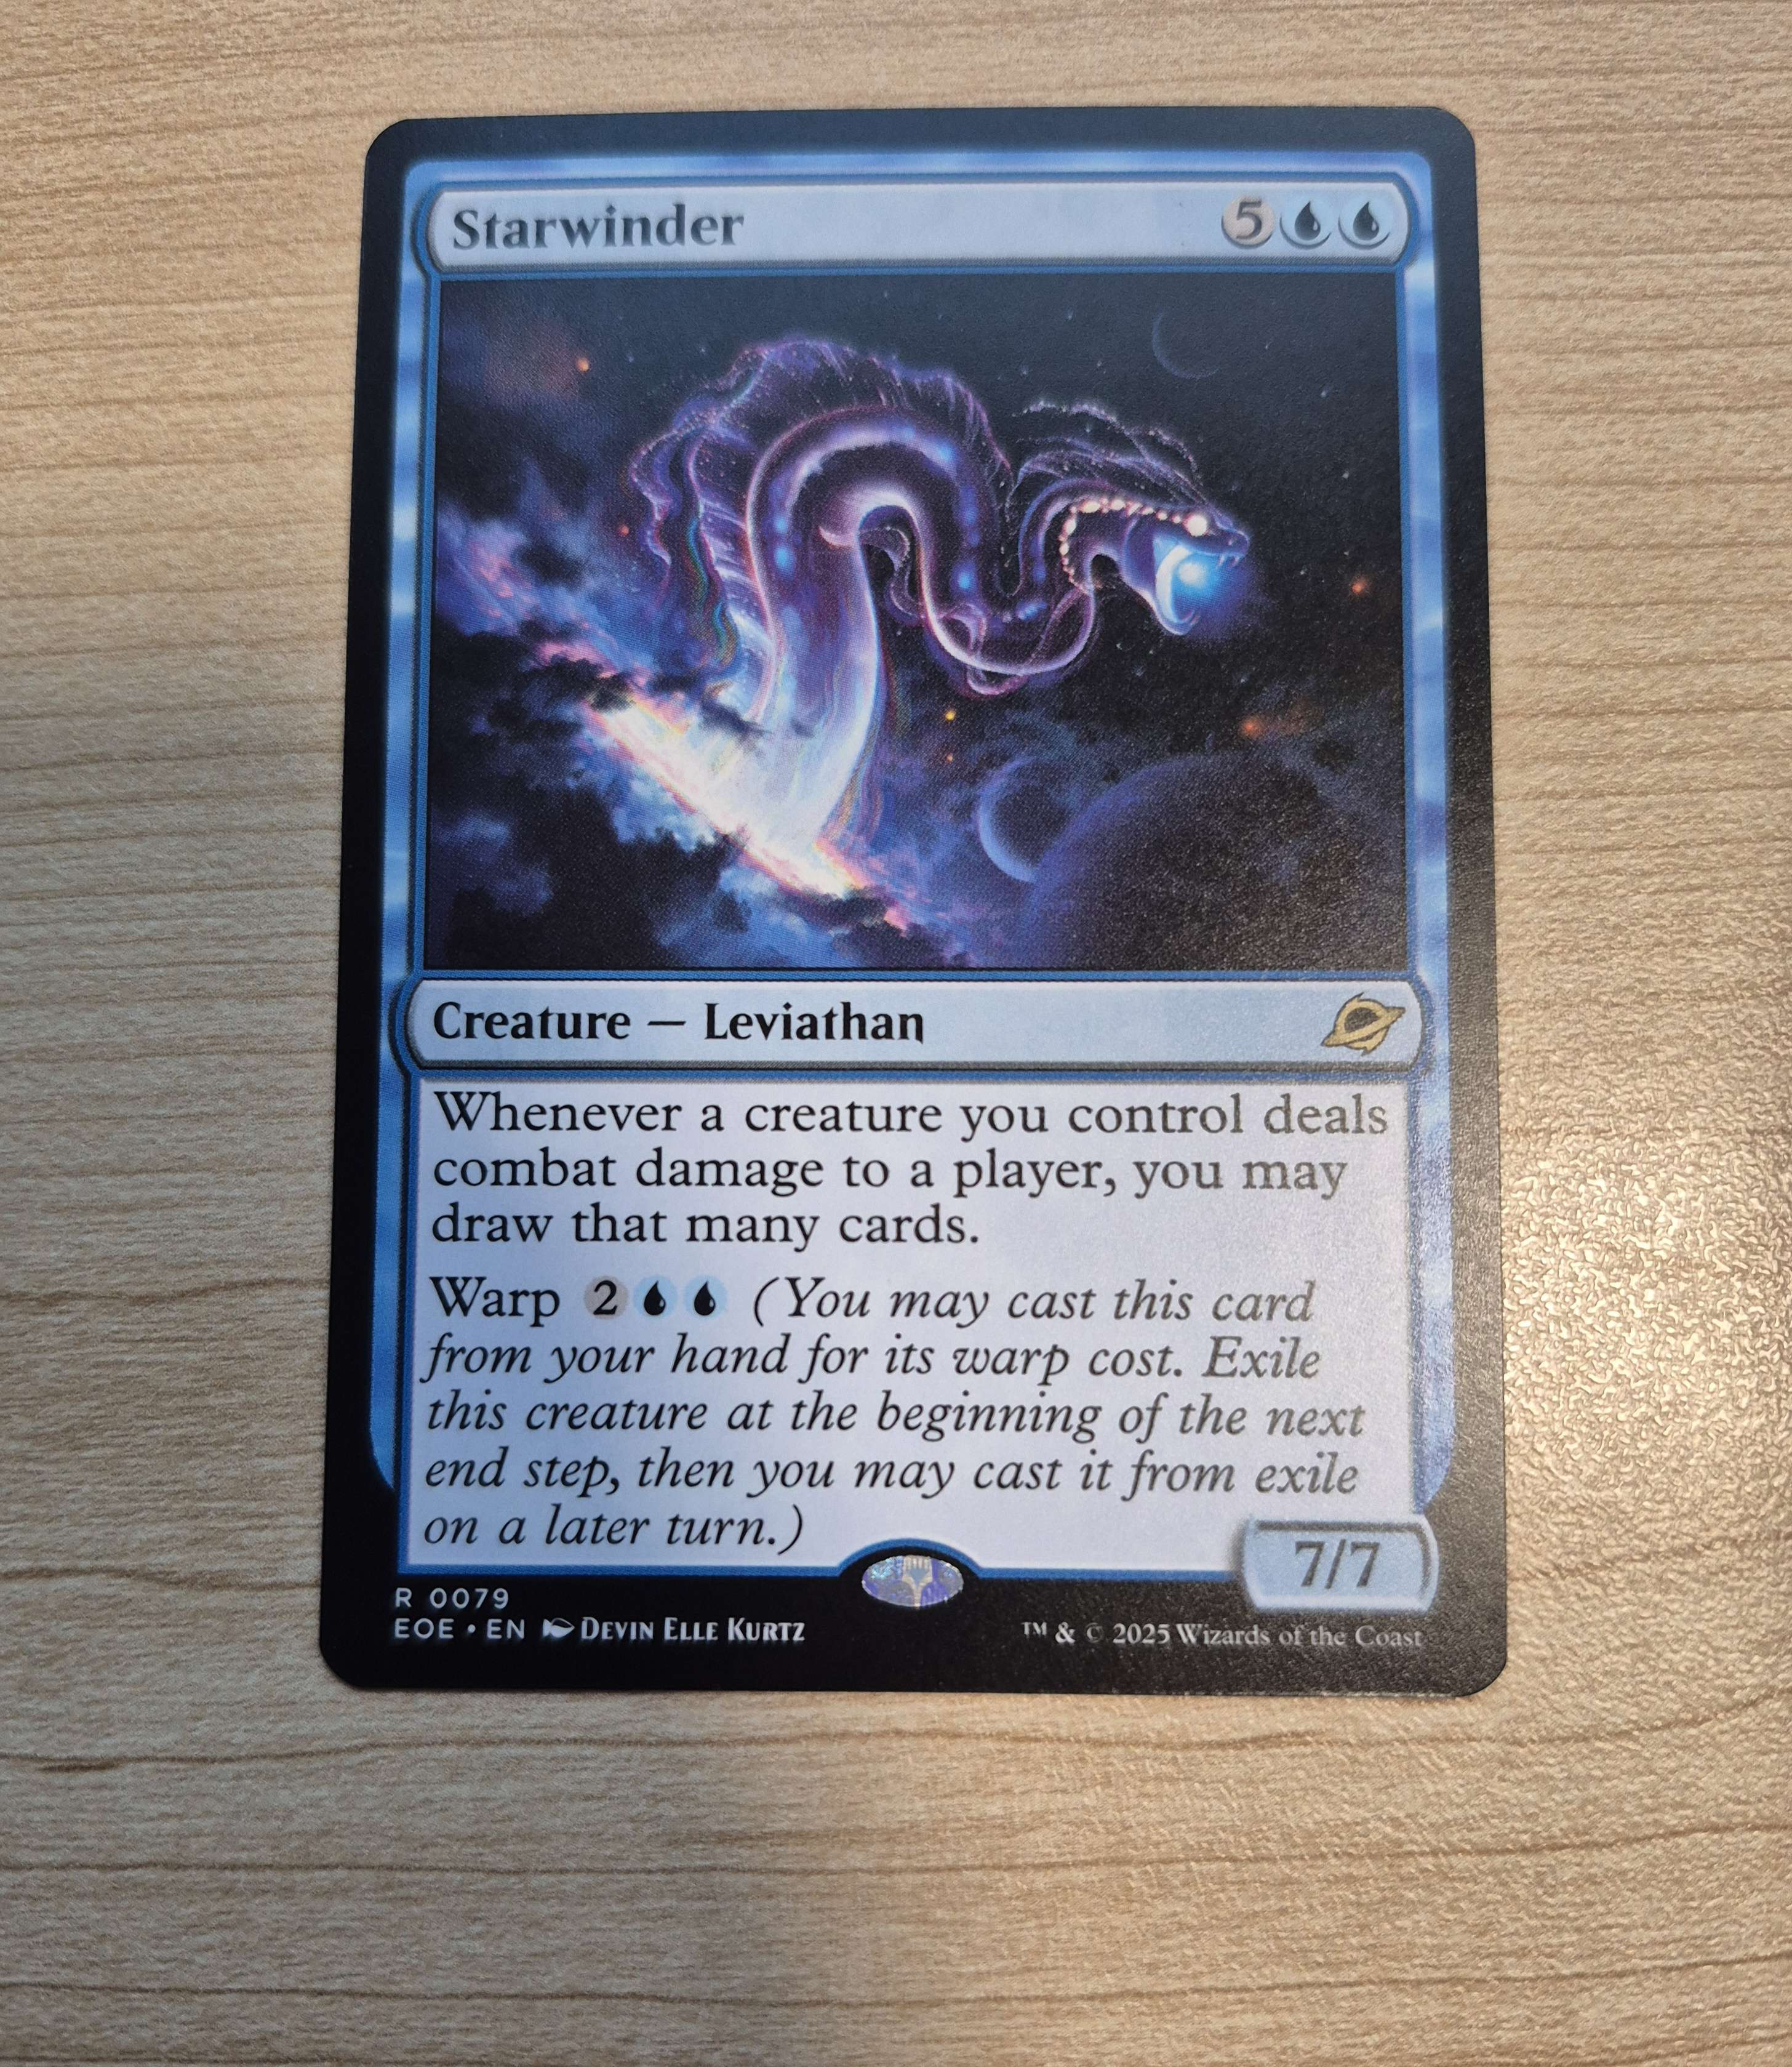mtg_card: (325, 79, 1551, 1737)
